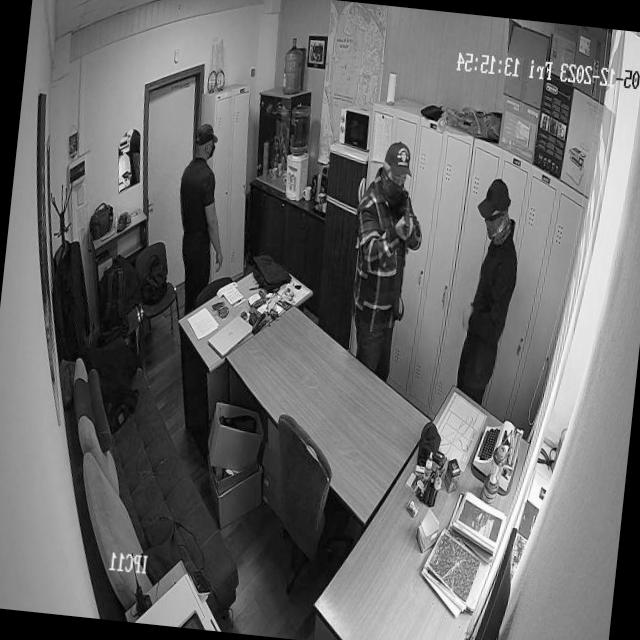gun: (394, 188, 415, 262)
person: (454, 173, 528, 388), (169, 120, 237, 278)
person with a gun: (342, 138, 432, 356)
